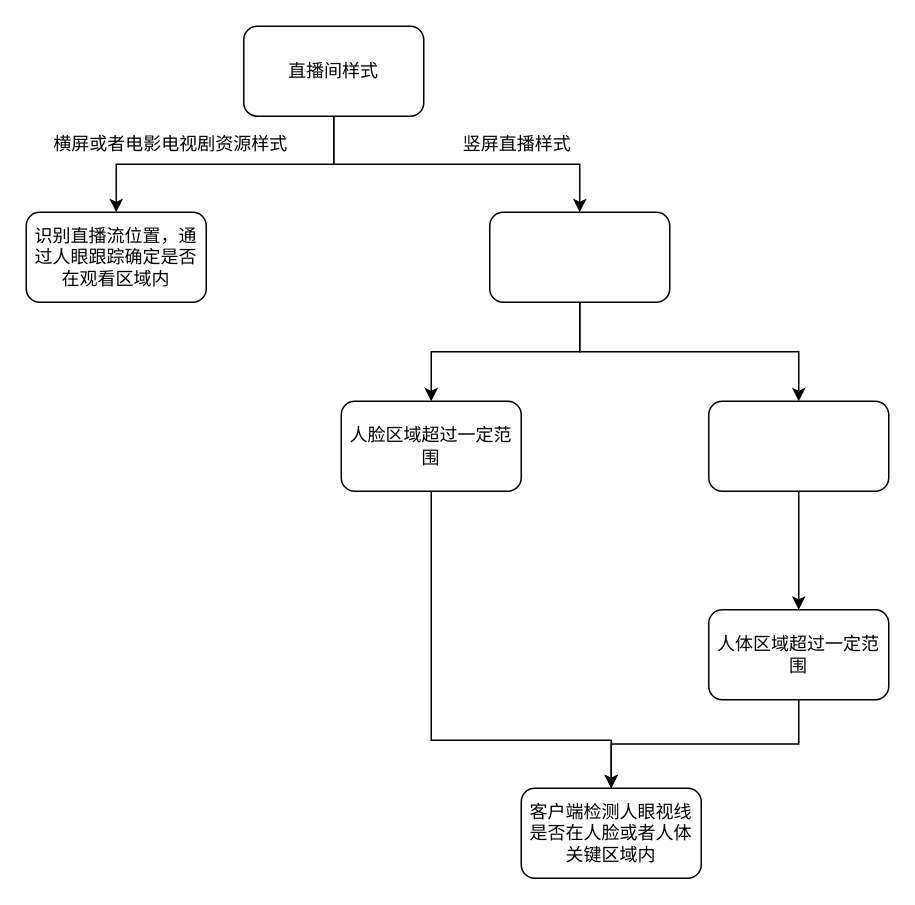
Image size: 915x905. Some labels were removed from this diagram. The centre of each missing label's shape, as x and y in pixels:
人脸区域太小，进行人体躯干检测: the point at 798,445
客户端检测是否人脸区域: the point at 579,256
